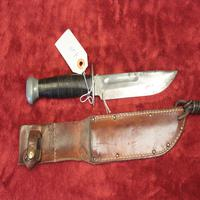knife: (18, 64, 180, 103)
